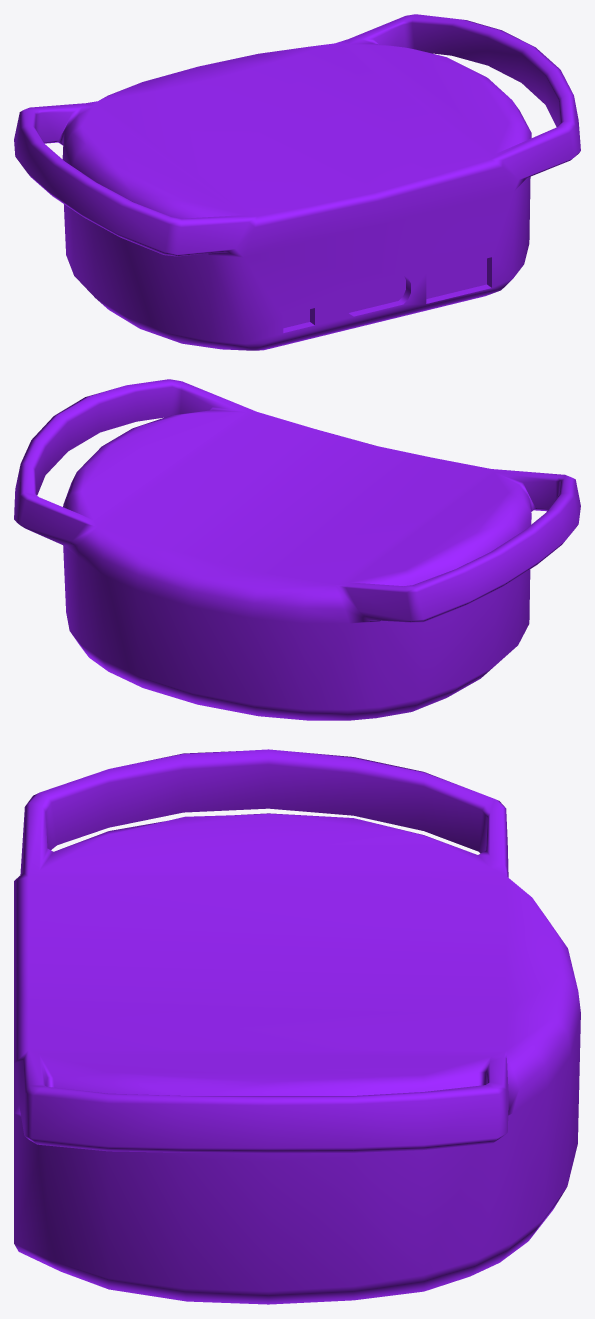
The model's file is tracker.gltf.
3 renders of one model, top to bottom at view 1: azimuth 30°, elevation 25°; view 2: azimuth 150°, elevation 25°; view 3: azimuth 270°, elevation 25°, orthographic. The views are drawn at different scales.
Parts seen in each view (by area): view 1: RemeshedCase; view 2: RemeshedCase; view 3: RemeshedCase.
Part boxes in pixels (x1=…): RemeshedCase: x1=14, y1=14, x2=580, y2=350; RemeshedCase: x1=14, y1=379, x2=580, y2=720; RemeshedCase: x1=14, y1=749, x2=580, y2=1304.
Size of the model in its own units: 0.7408 by 0.2385 by 0.4905.
